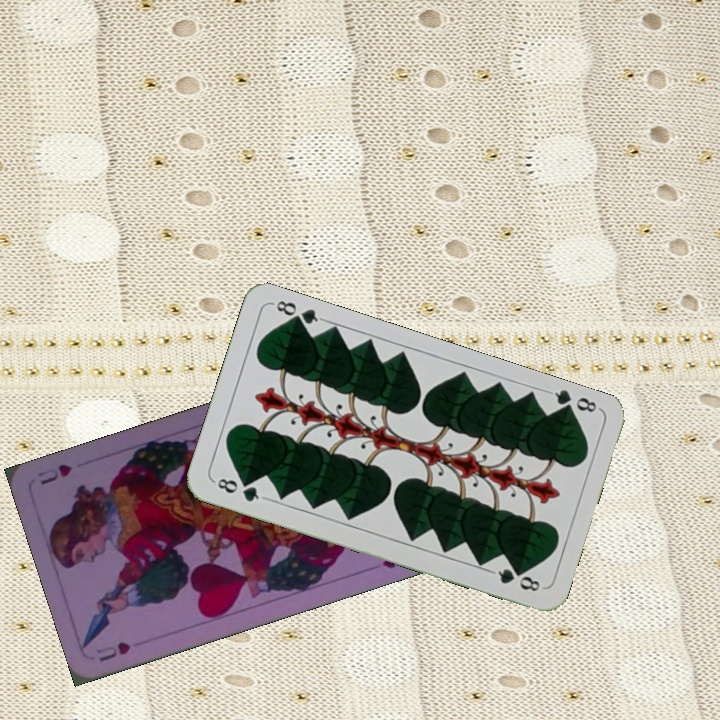G8: (544, 386, 602, 419), (210, 474, 268, 505)
HU: (92, 637, 134, 665)
